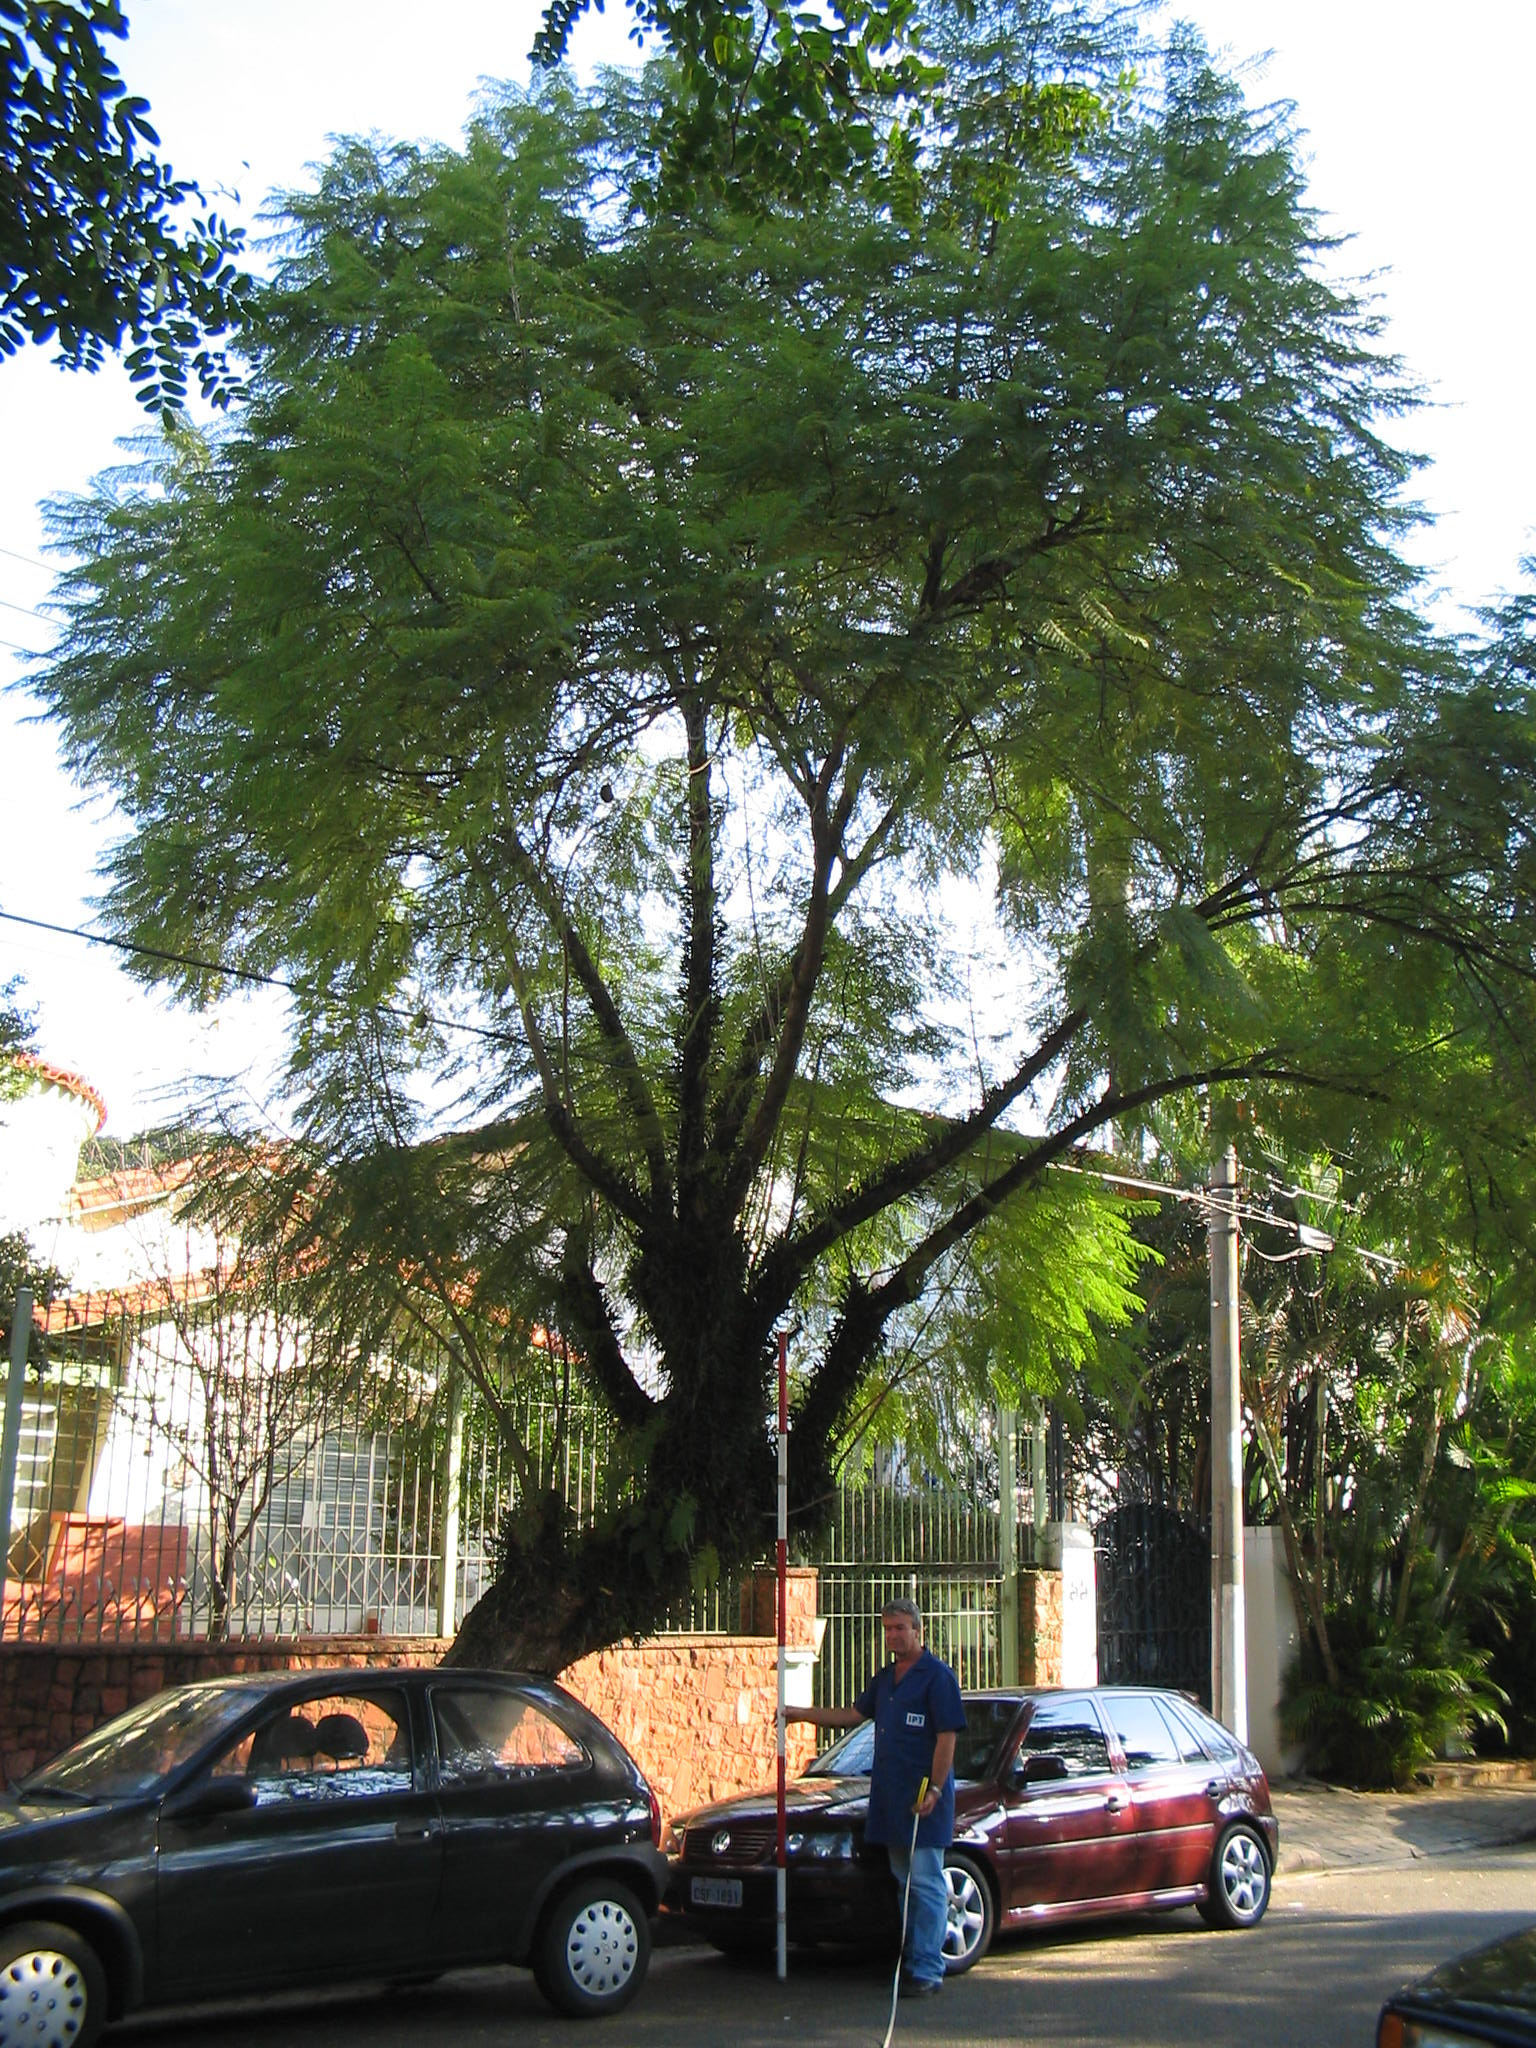crown: (3, 29, 1478, 1116)
stem: (316, 1450, 841, 1975)
stick: (733, 1337, 837, 1979)
tree: (2, 24, 1486, 1982)
